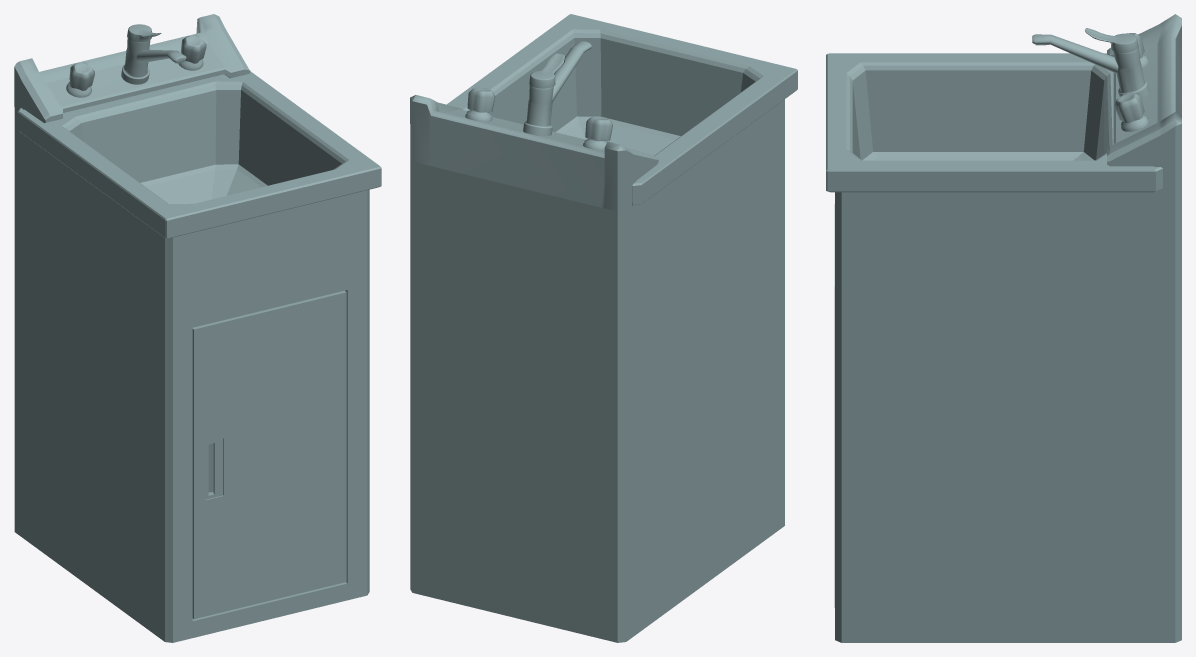
The model's file is Laundry Sink.fbx.
3 views of the same model, side by side, from view 1: azimuth 30°, elevation 25°; view 2: azimuth 150°, elevation 25°; view 3: azimuth 270°, elevation 25° (orthographic). The views are drawn at different scales.
Parts seen in each view (by area): view 1: polySurface4; view 2: polySurface4; view 3: polySurface4.
Part boxes in pixels (left/top/right/bottom): polySurface4: left=14, top=14, right=381, bottom=642; polySurface4: left=410, top=14, right=797, bottom=642; polySurface4: left=826, top=14, right=1181, bottom=642.
Size of the model in its own units: 0.5698 by 1.27 by 0.7324.
